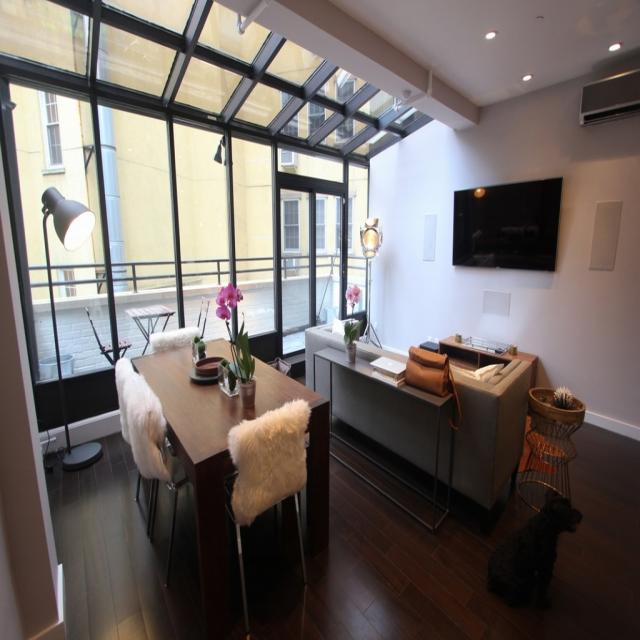chair: (224, 399, 310, 635), (117, 360, 192, 579), (85, 309, 133, 368), (150, 309, 208, 354)
desk: (130, 335, 329, 630)
tv: (452, 177, 562, 275)
